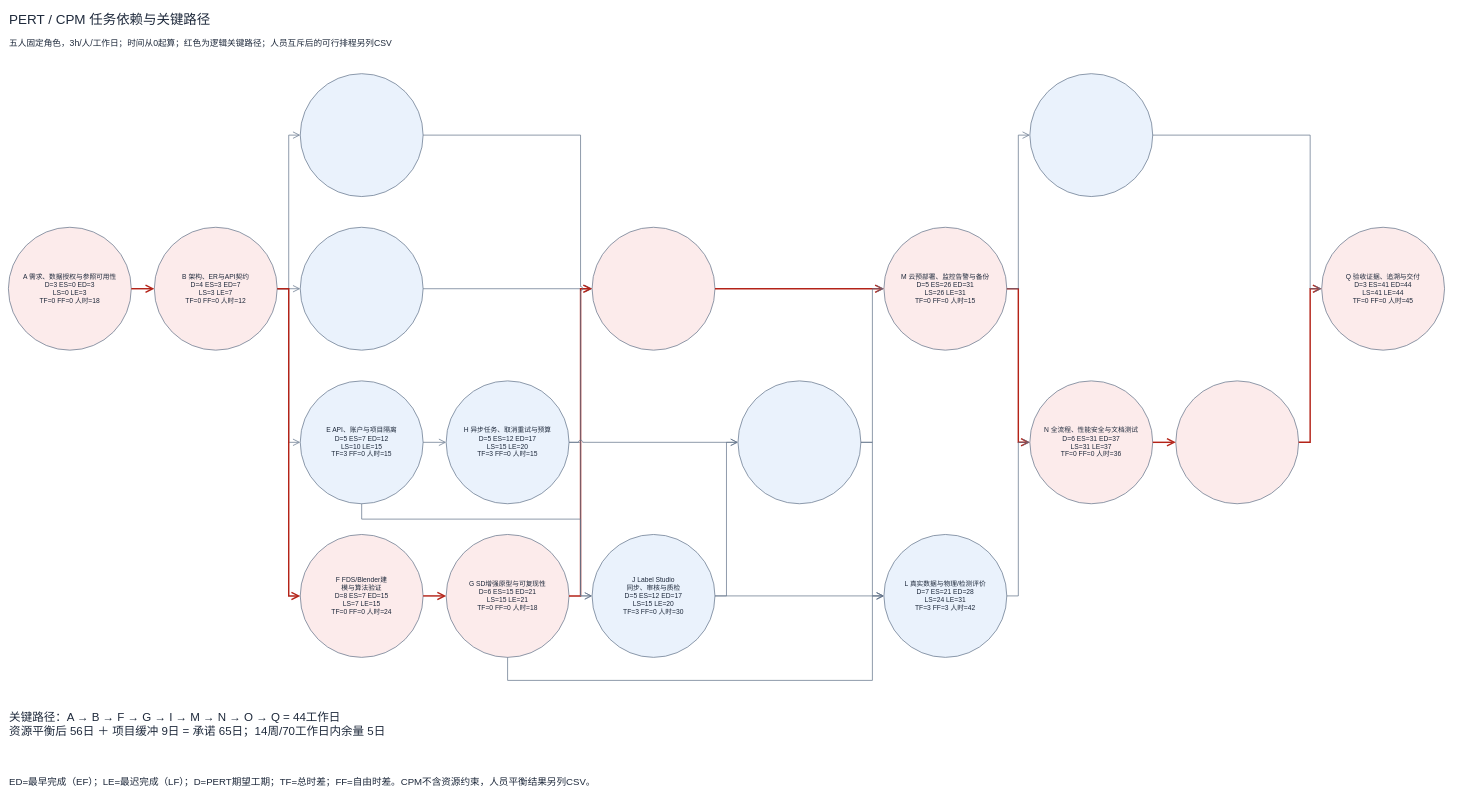
Image size: 1461x807. Some labels were removed from this diagram. The shapes that lost their labels are listed below. From the top down, each one's box as (x1, y1, x2, y2) in pixels, then its label:
(300, 73, 423, 197): C 测试/CI/Sonar骨架 D=4 ES=7 ED=11 LS=11 LE=15 TF=4 FF=1 人时=24
(1029, 73, 1153, 197): P 连续可用性观测与缺陷复核 D=7 ES=31 ED=38 LS=34 LE=41 TF=3 FF=3 人时=21
(300, 227, 423, 350): D Web页面与交互骨架 D=5 ES=7 ED=12 LS=16 LE=21 TF=9 FF=9 人时=15
(592, 227, 715, 350): I 统一Web贯通与结果对比 D=5 ES=21 ED=26 LS=21 LE=26 TF=0 FF=0 人时=15
(737, 380, 861, 504): K DVC冻结、版本与导出 D=4 ES=17 ED=21 LS=20 LE=24 TF=3 FF=0 人时=12
(1175, 380, 1299, 504): O 云Demo、手册、PPT 与视频 D=4 ES=37 ED=41 LS=37 LE=41 TF=0 FF=0 人时=24
